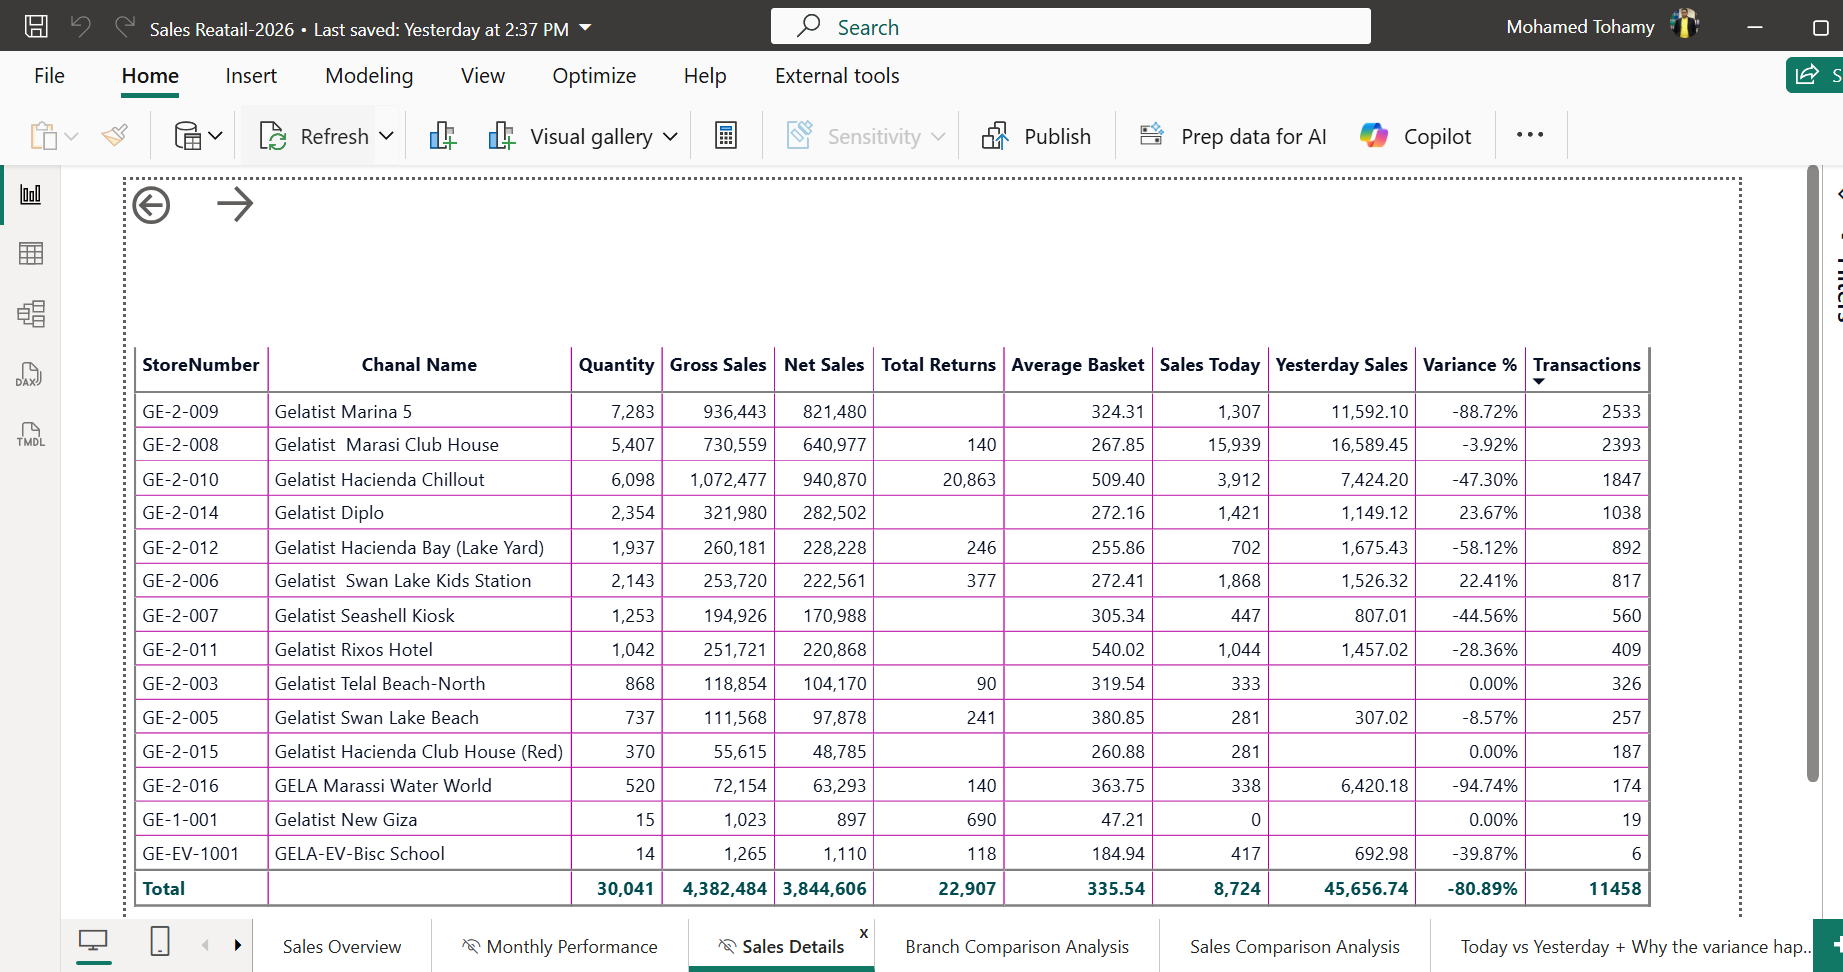

This screenshot's page, from the dashboard's own definition file:
{"tool":"powerbi","page":{"name":"Sales Details","canvas":[1280,720],"ordinal":2},"visuals":[{"type":"tableEx","fields":{"Values":["Reatil Store Table.StoreNumber","Retail_Sales-2026.Chanal Name","Measure.Quantity","Measure.Gross Sales","Measure.Net Sales","Measure.Total Returns","Measure.Average Basket","Measure.Sales Today","Measure.Yesterday Sales","Measure.Variance %","Measure.Transactions"]},"box":[0,126.8,1220.6,534],"z":0},{"type":"actionButton","box":[0,0,100,40],"z":1000},{"type":"actionButton","box":[66.3,0,68.1,38.5],"z":1001}]}

Visuals, with their boxes on the page's 1280x720 design canvas (x1, y1, x2, y2). These are canvas units, not pixel positions in the 1843x972 screenshot, which may show the page scaled, cropped or inside an application window:
tableEx - Reatil Store Table.StoreNumber x Retail_Sales-2026.Chanal Name: [left=0, top=127, right=1221, bottom=661]
actionButton: [left=0, top=0, right=100, bottom=40]
actionButton: [left=66, top=0, right=134, bottom=38]
